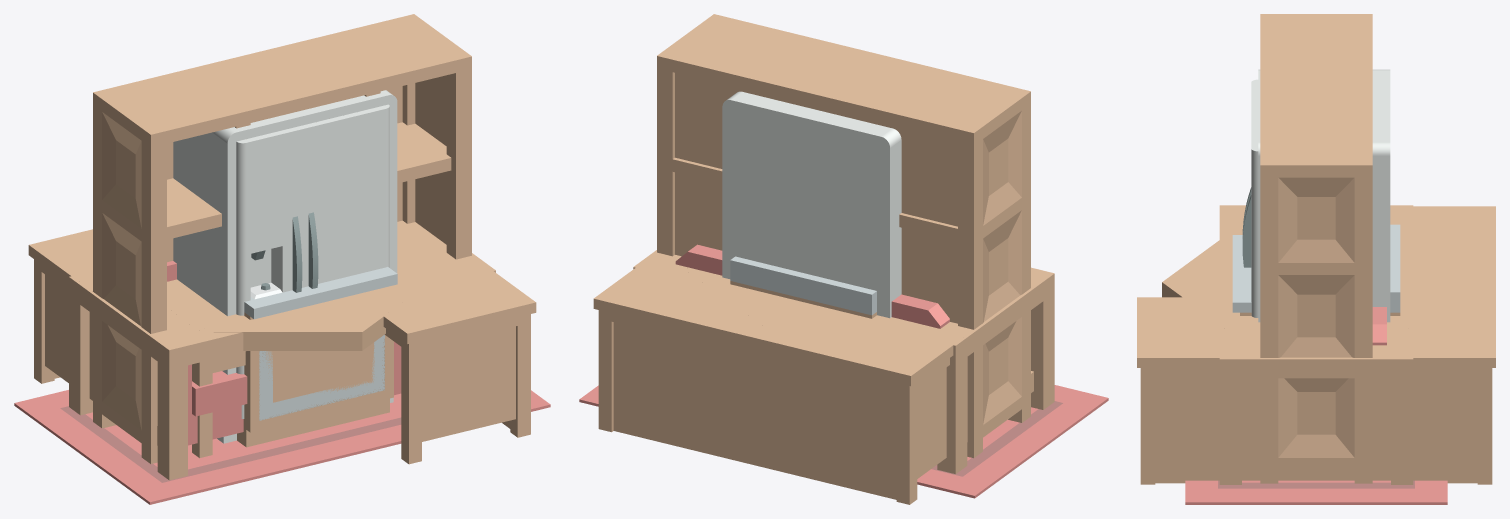
File: oficina.glb
The picture shows the model from 3 angles, left to right: view 1: azimuth 30°, elevation 25°; view 2: azimuth 150°, elevation 25°; view 3: azimuth 270°, elevation 25°; orthographic projection. The views are drawn at different scales.
Parts seen in each view (by area): view 1: bookcaseClosedWide(Clone), deskCorner(Clone), rugRectangle(Clone), doorRight, kitchenFridgeLarge(Clone), doorLeft, table(Clone), kitchenStove(Clone), tableRound(Clone), door (×2), desk(Clone), loungeSofa(Clone); view 2: bookcaseClosedWide(Clone), deskCorner(Clone), kitchenFridgeLarge(Clone), table(Clone), rugRectangle(Clone), tableRound(Clone), kitchenStove(Clone), loungeSofa(Clone); view 3: bookcaseClosedWide(Clone), deskCorner(Clone), table(Clone), tableRound(Clone), rugRectangle(Clone), kitchenFridgeLarge(Clone), kitchenStove(Clone), doorRight, kitchenCabinet(Clone), loungeSofa(Clone).
Part boxes in pixels (x1,y1,x2,y2): bookcaseClosedWide(Clone): (93, 14, 471, 463); deskCorner(Clone): (28, 220, 536, 464); rugRectangle(Clone): (14, 390, 550, 504); doorRight: (299, 104, 389, 288); kitchenFridgeLarge(Clone): (173, 90, 397, 443); doorLeft: (236, 126, 303, 418); table(Clone): (69, 253, 495, 480); kitchenStove(Clone): (237, 267, 397, 447); tableRound(Clone): (200, 271, 441, 350); door (×2): (259, 335, 384, 420); desk(Clone): (167, 239, 440, 458); loungeSofa(Clone): (167, 261, 401, 445); bookcaseClosedWide(Clone): (657, 14, 1030, 458); deskCorner(Clone): (593, 252, 983, 504); kitchenFridgeLarge(Clone): (722, 91, 901, 318); table(Clone): (633, 250, 1054, 474); rugRectangle(Clone): (579, 385, 1108, 498); tableRound(Clone): (686, 268, 924, 327); kitchenStove(Clone): (730, 256, 876, 318); loungeSofa(Clone): (675, 244, 949, 328); bookcaseClosedWide(Clone): (1260, 14, 1372, 483); deskCorner(Clone): (1137, 206, 1495, 484); table(Clone): (1219, 205, 1413, 484); tableRound(Clone): (1162, 225, 1470, 338); rugRectangle(Clone): (1185, 480, 1447, 504); kitchenFridgeLarge(Clone): (1258, 69, 1390, 322); kitchenStove(Clone): (1232, 224, 1400, 315); doorRight: (1242, 109, 1258, 317); kitchenCabinet(Clone): (1232, 235, 1251, 302); loungeSofa(Clone): (1372, 307, 1386, 345).
Size of the model in its own units: 2.4 by 1.9 by 1.93.
